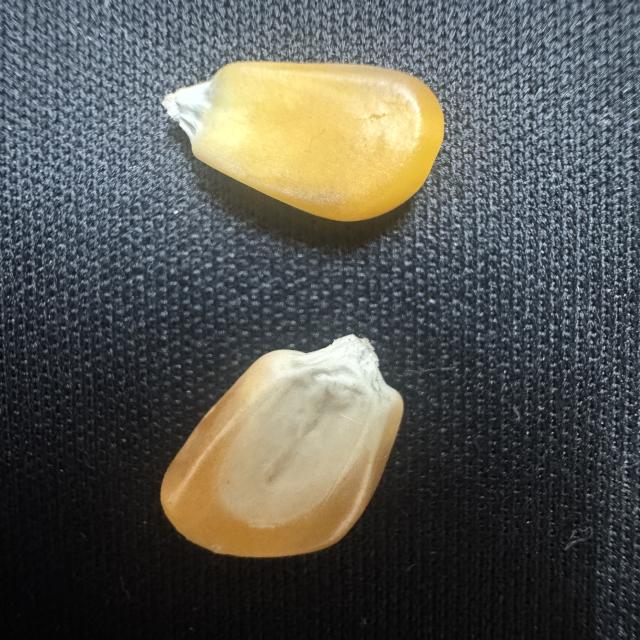Good-Seed: (155, 316, 414, 572), (153, 53, 455, 226)
